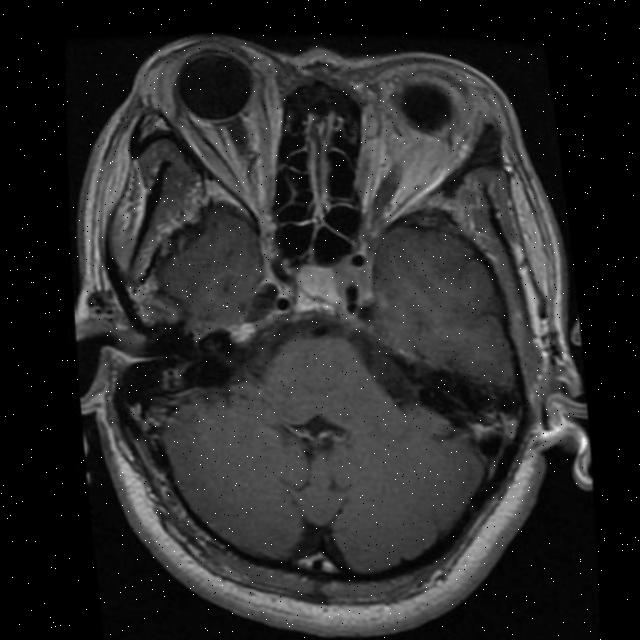Pituitary: (287, 261, 345, 316)
